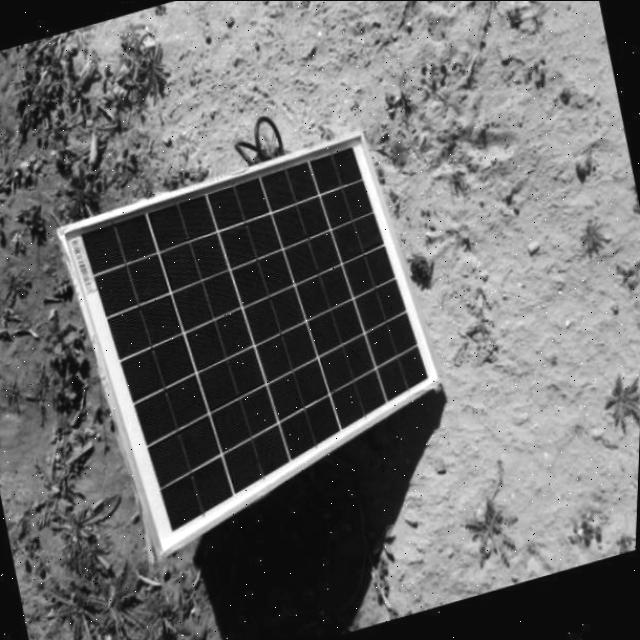Normal Solar Panel: (51, 129, 470, 569)
